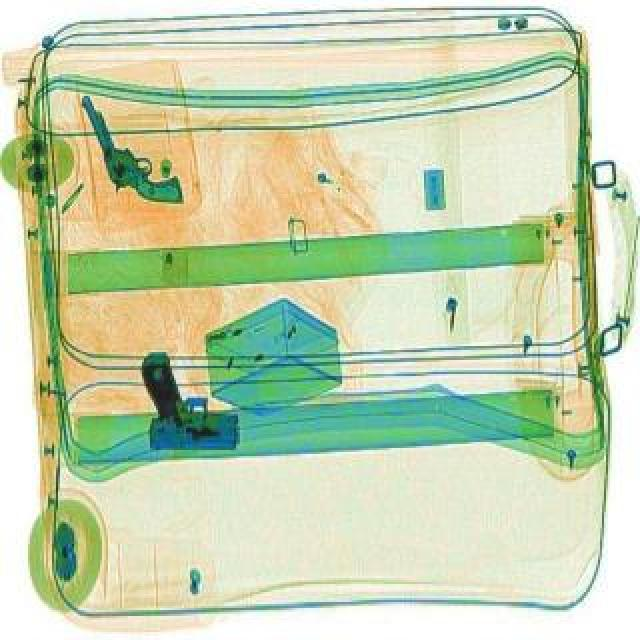gun: (64, 82, 188, 232), (138, 354, 246, 458)
